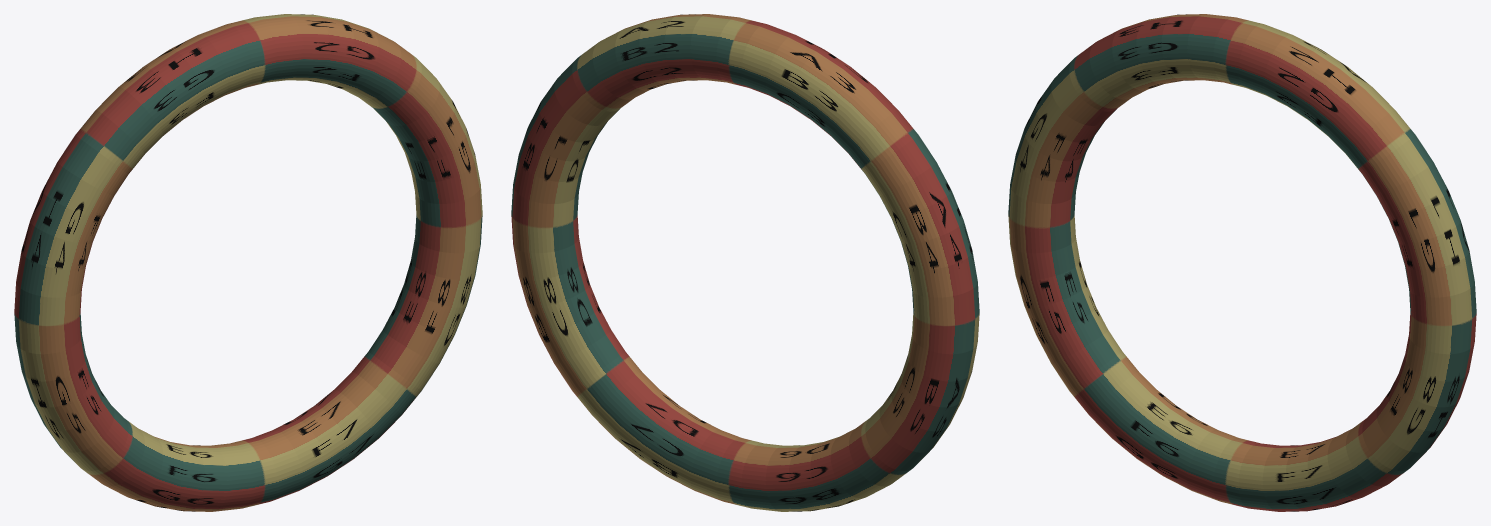
File: texture_torus_R20_r5.glb
3 views of the same model, side by side, from view 1: azimuth 30°, elevation 25°; view 2: azimuth 150°, elevation 25°; view 3: azimuth 330°, elevation 25° (orthographic).
Parts seen in each view (by area): view 1: world; view 2: world; view 3: world.
Part boxes in pixels (x1=…): world: x1=14, y1=14, x2=482, y2=511; world: x1=511, y1=14, x2=979, y2=511; world: x1=1008, y1=14, x2=1476, y2=511.
Bounding box in the file's own units: 26.67 × 26.61 × 3.33.
1 material, 1 textured.
